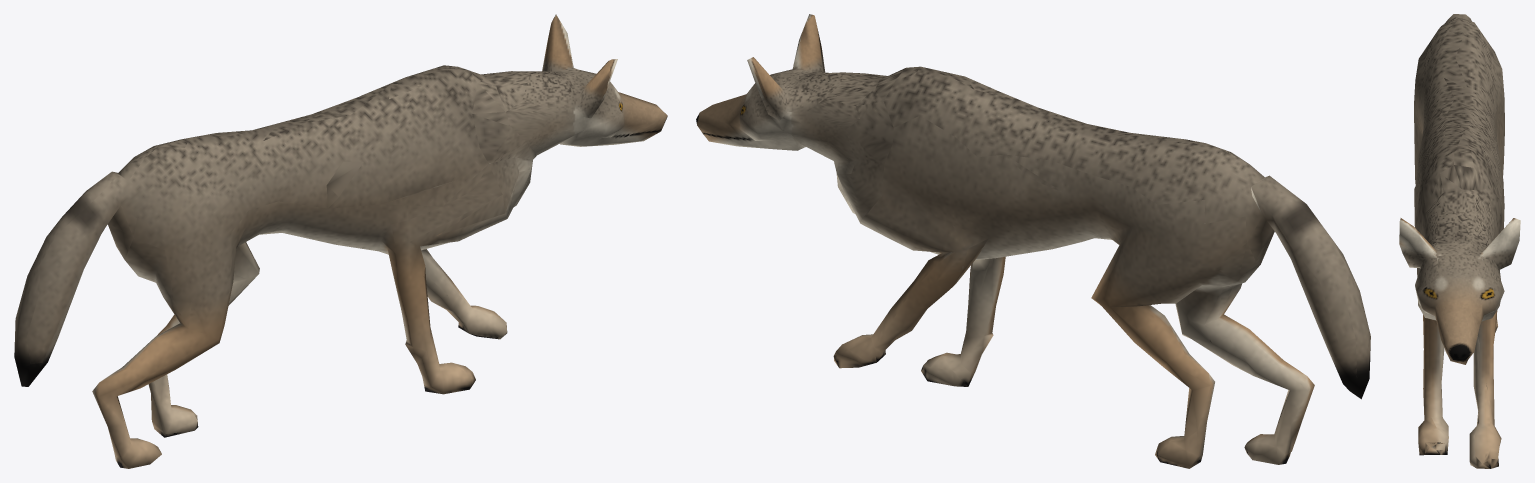
File: wolf_stalk_lod1.glb
3 views of the same model, side by side, from view 1: azimuth 30°, elevation 25°; view 2: azimuth 150°, elevation 25°; view 3: azimuth 270°, elevation 25° (orthographic). The views are drawn at different scales.
Visible parts, largest first — view 1: wolf_stalk_lod1_mesh; view 2: wolf_stalk_lod1_mesh; view 3: wolf_stalk_lod1_mesh.
Boxes of the visible parts, x1,y1,x2,y2 form: wolf_stalk_lod1_mesh: (14,14,667,468); wolf_stalk_lod1_mesh: (696,14,1370,468); wolf_stalk_lod1_mesh: (1399,14,1520,468).
Bounding box in the file's own units: 1.24 × 0.5566 × 0.2016.
1 material, 1 textured.
